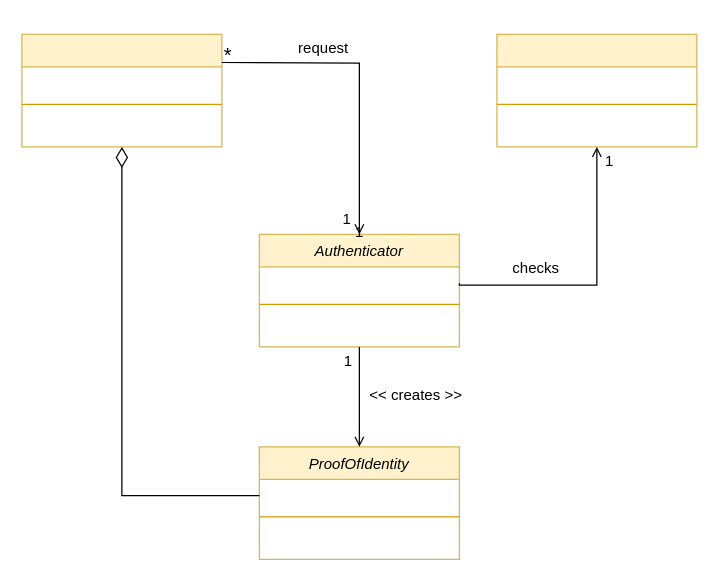
The diagram is 719 pixels wide and 581 high, and some of its shapes have lost their labels. The box of each missing label's shape, as (x1, y1, x2, y2) in pixels:
Authentication Information: (496, 33, 697, 147)
Subject: (21, 33, 222, 147)
